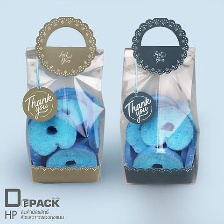snack: (14, 10, 110, 189), (114, 11, 205, 190)
